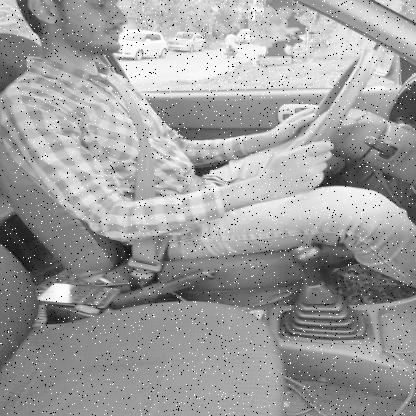seatbelt: (29, 0, 171, 188)
